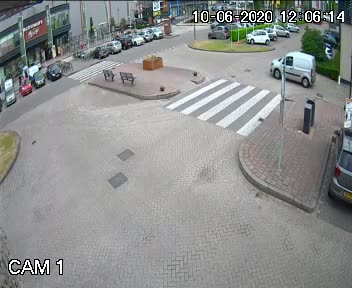car: (265, 48, 319, 84), (205, 17, 230, 27)
